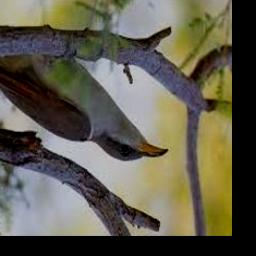Cuckoo: (0, 50, 167, 161)
